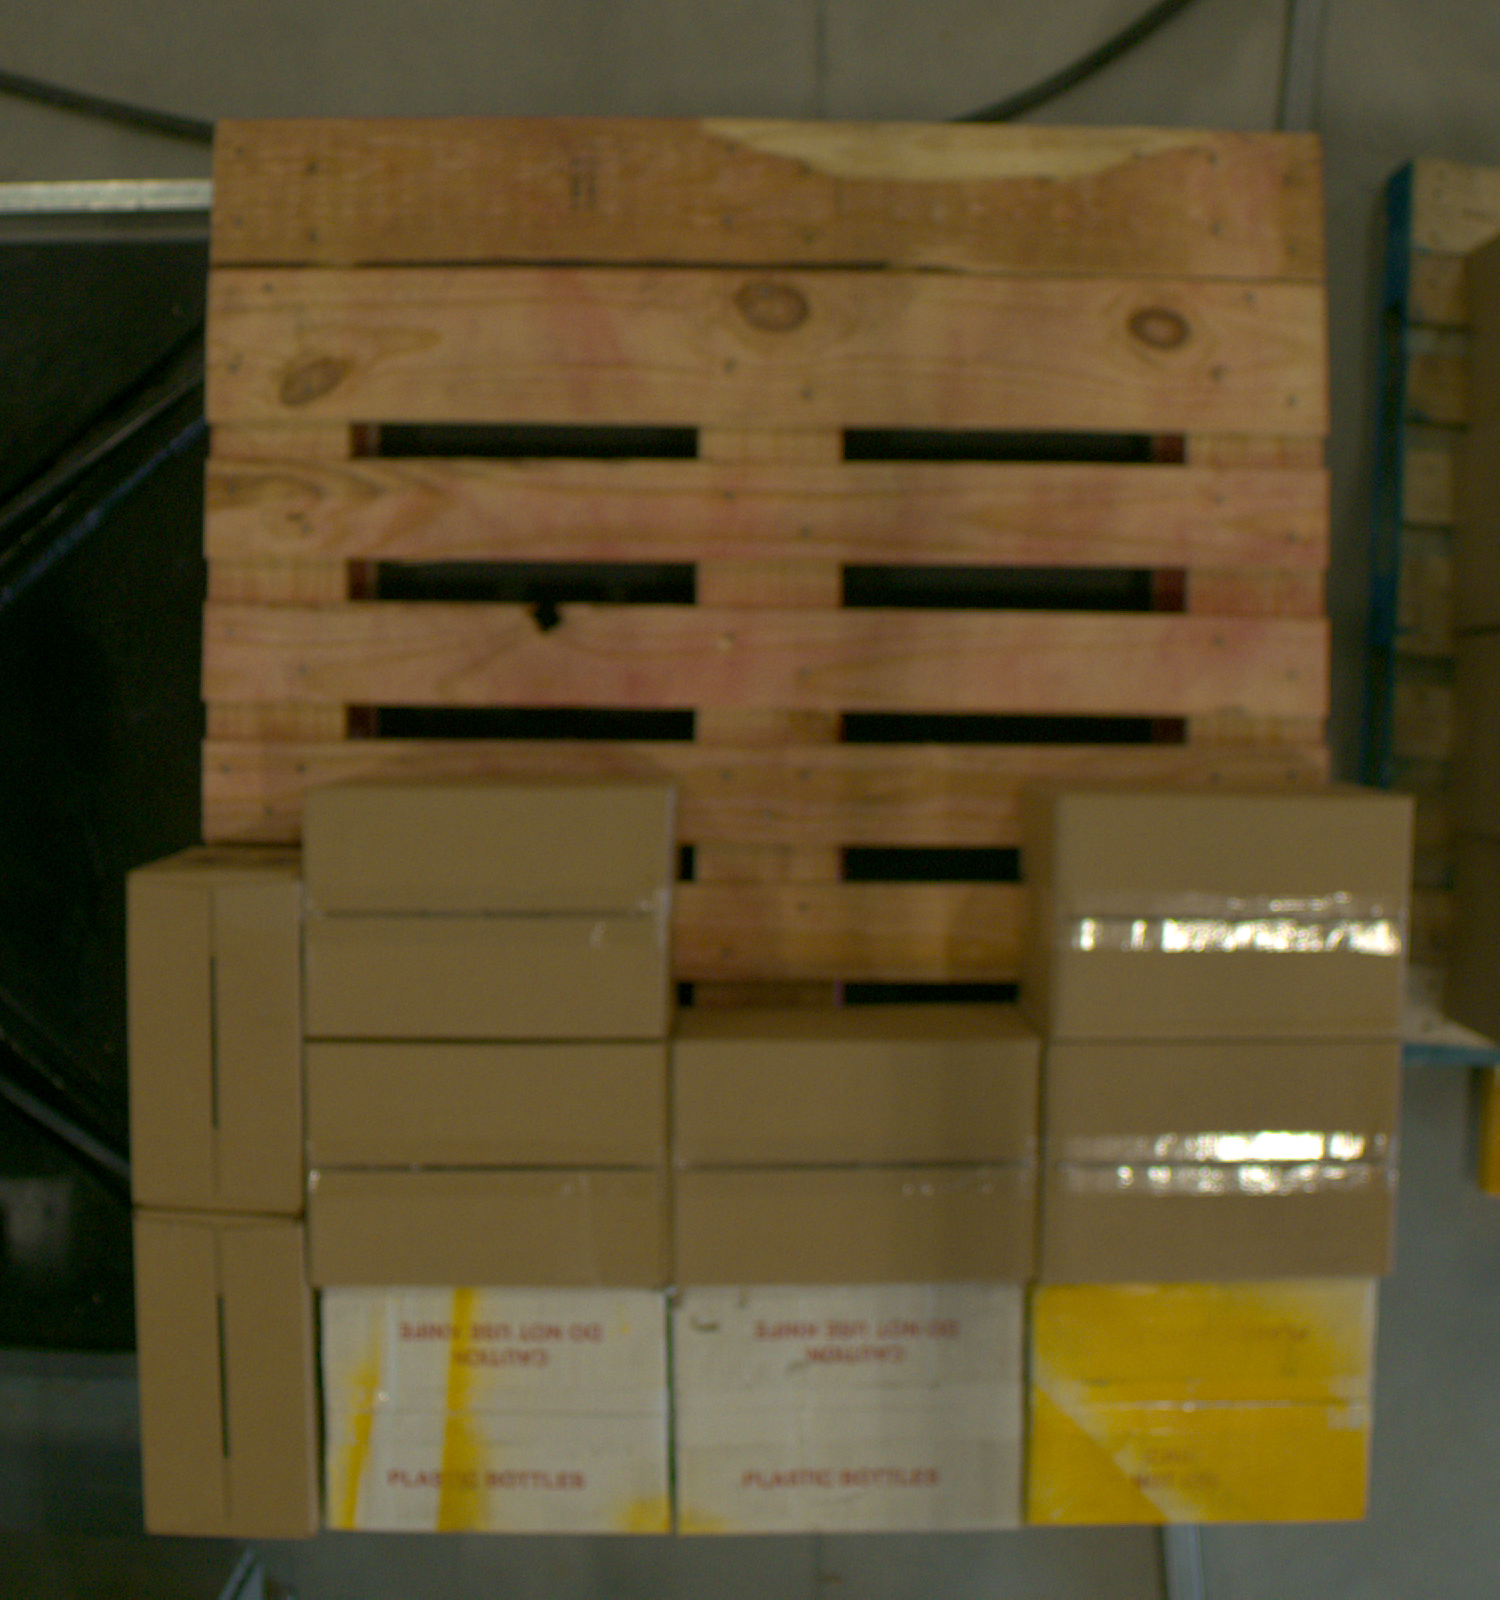box top: (307, 789, 672, 1036), (723, 1233, 973, 1584), (1056, 796, 1413, 1039), (737, 983, 974, 1346), (1031, 1279, 1377, 1527), (368, 987, 608, 1345), (1040, 1046, 1401, 1283), (375, 1241, 617, 1583), (135, 1210, 314, 1538), (131, 873, 300, 1212)
